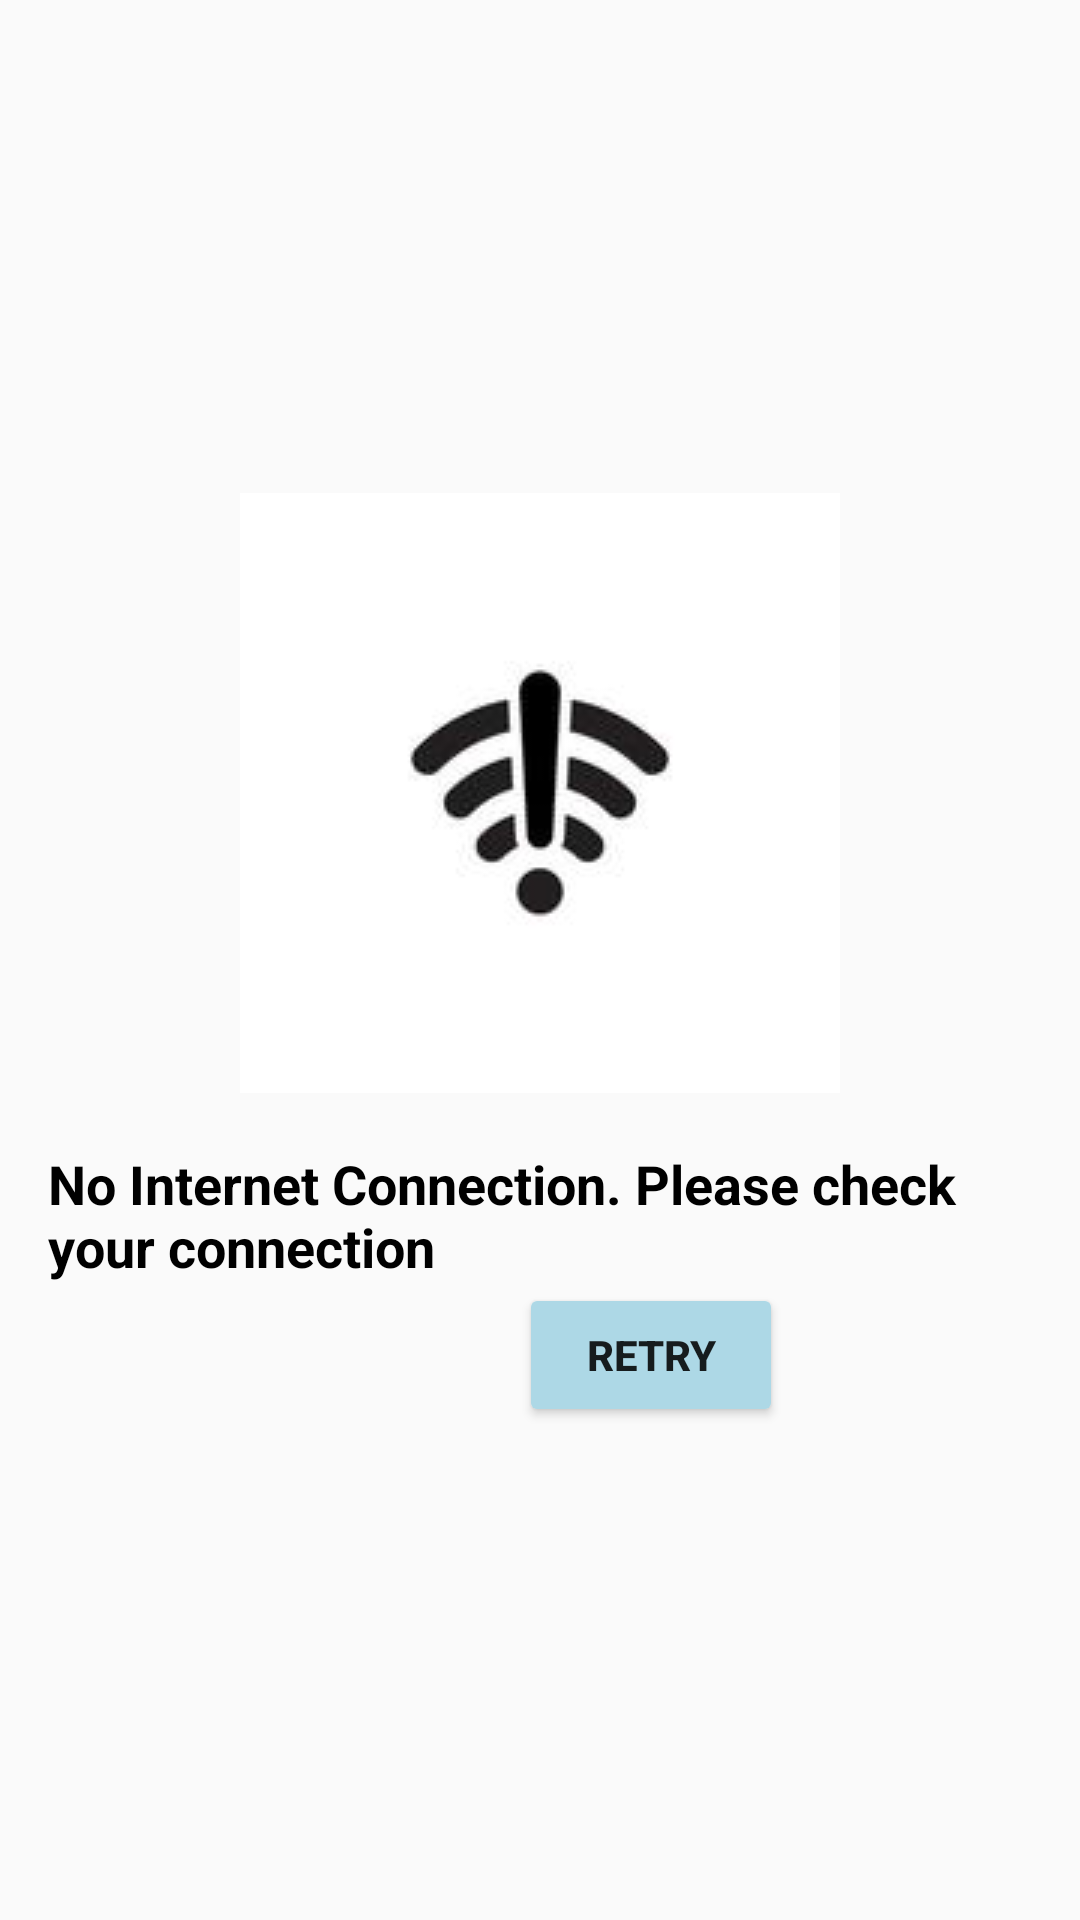

Where to tap for icons on this 1080 × 1920 app screen, as point (x, y):
wifi: point (540, 793)
